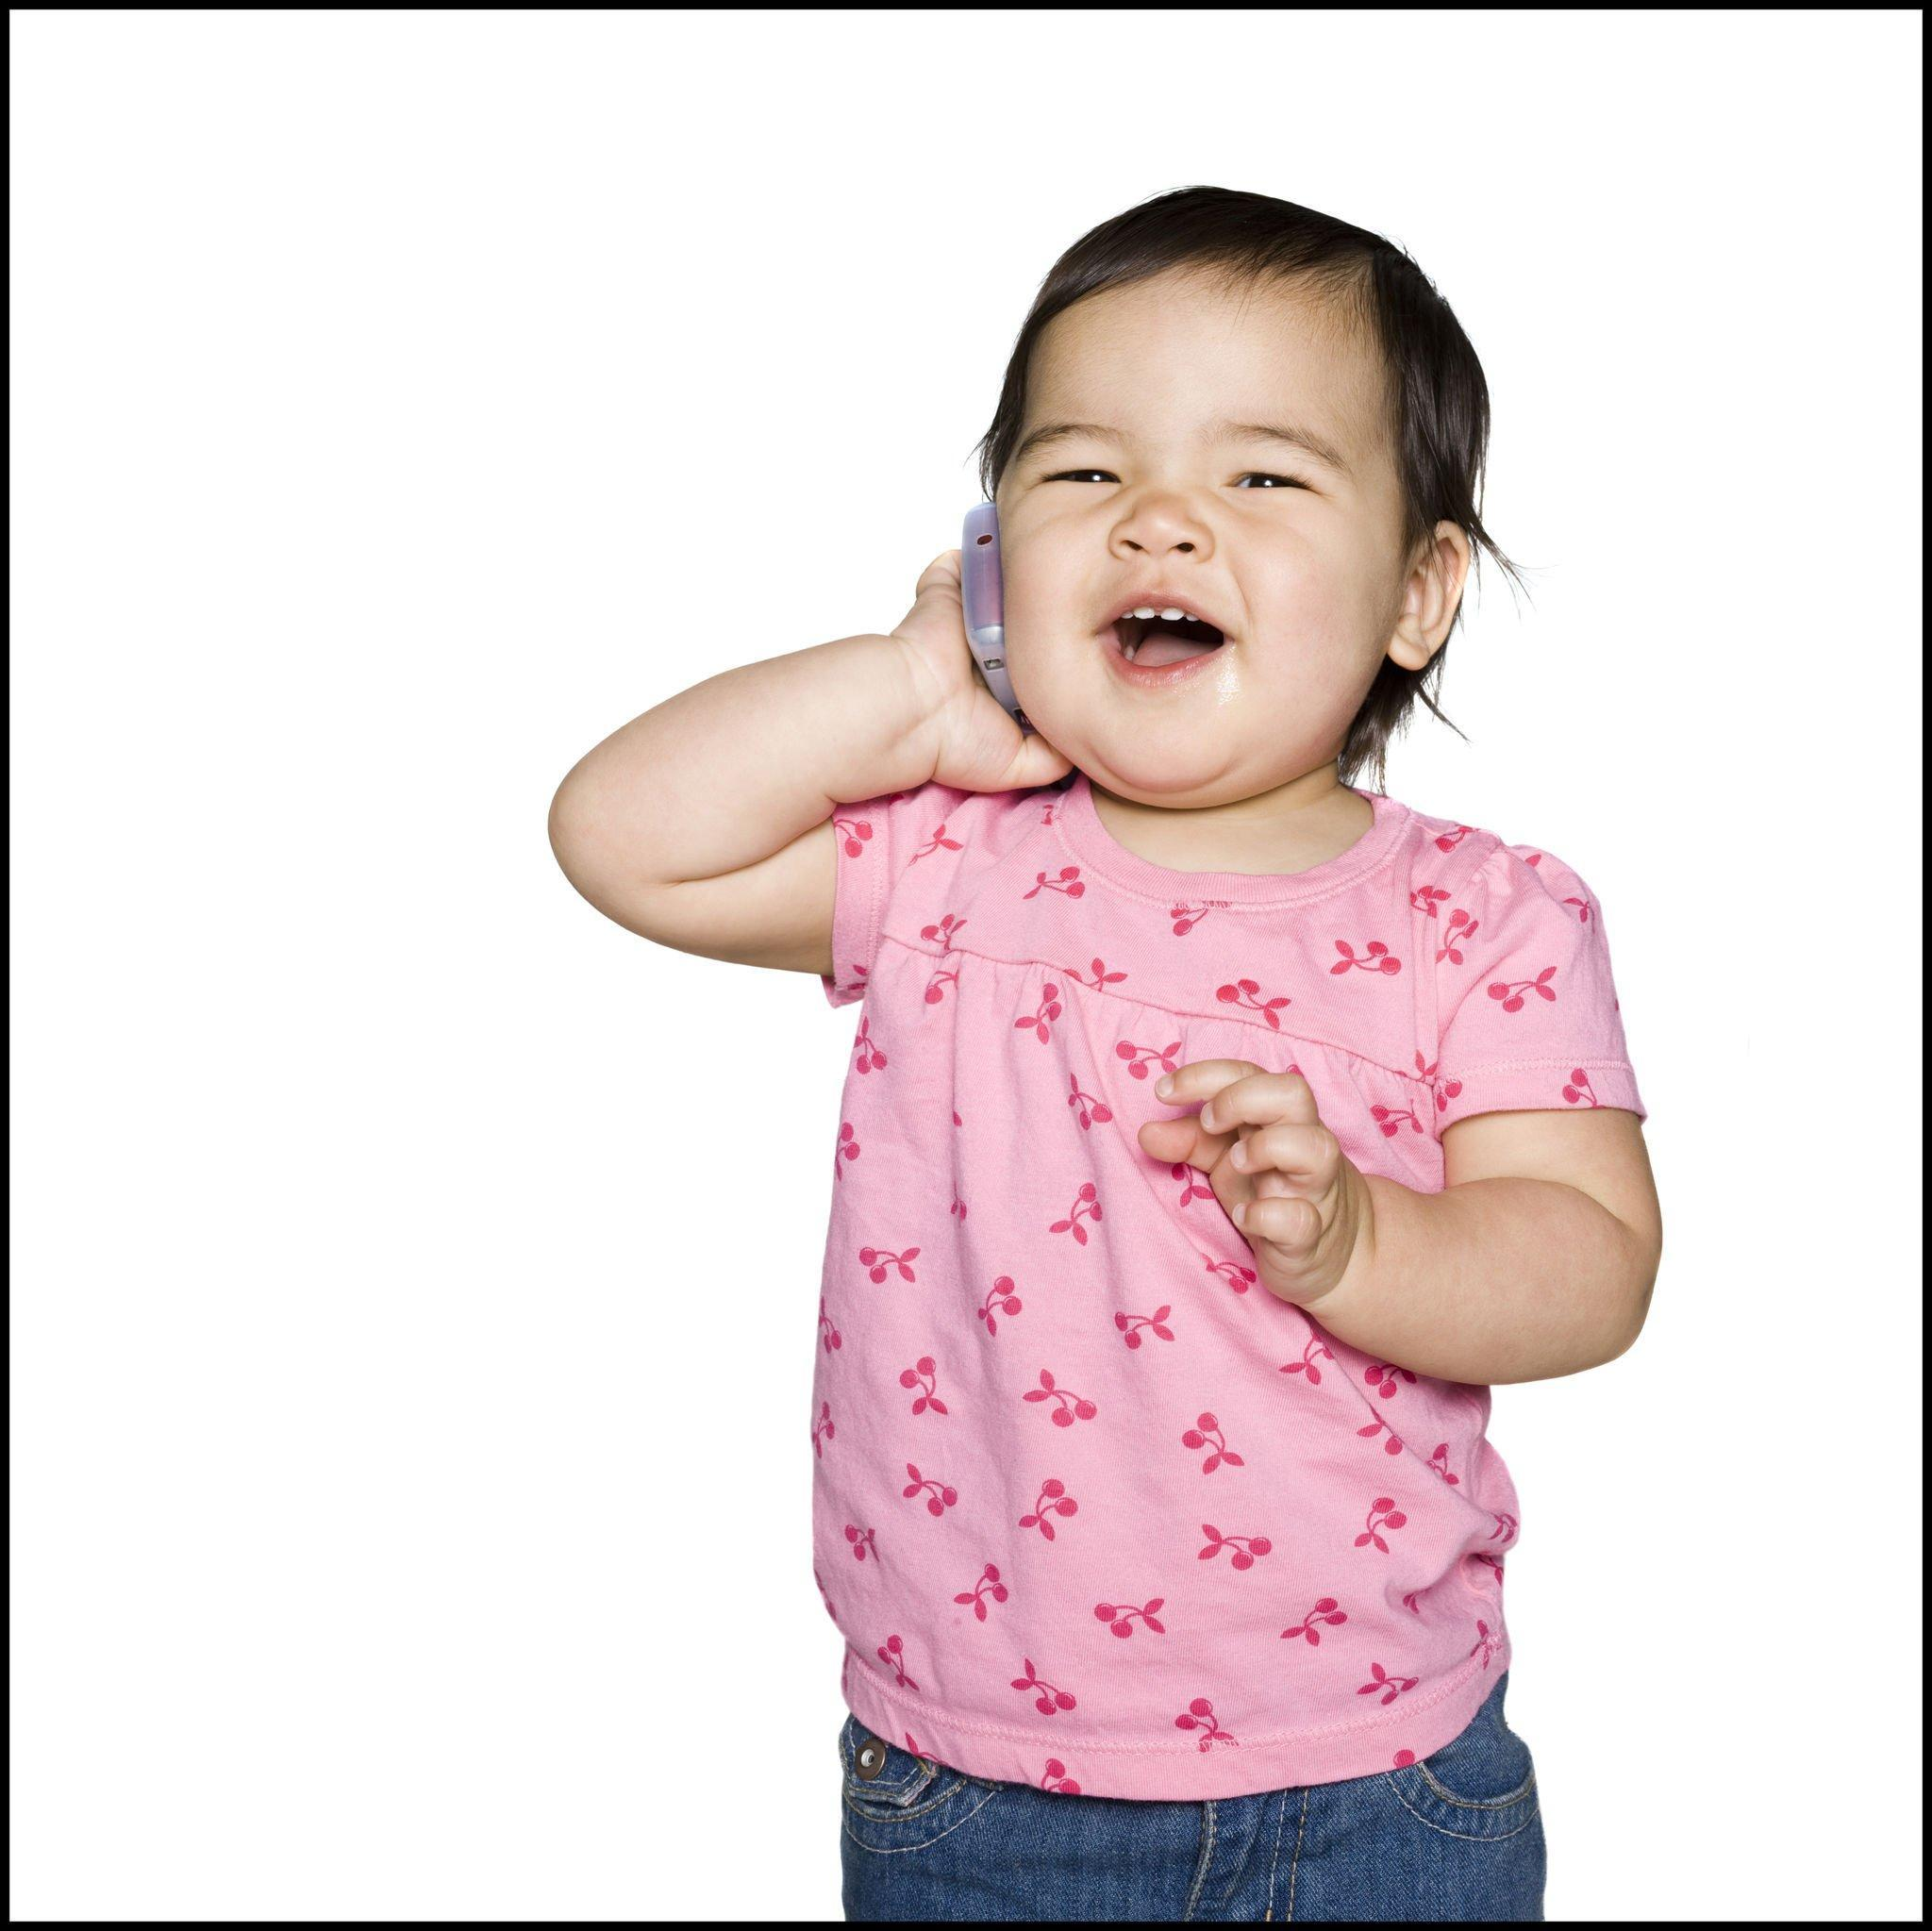Healthy: (1006, 200, 1487, 858)
